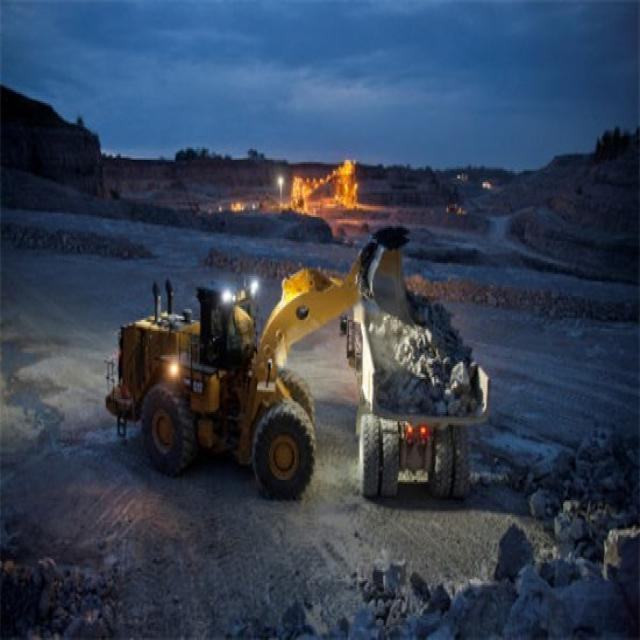buldozerpayloadergrader: (115, 210, 410, 504)
dump_truck: (349, 289, 500, 513)
